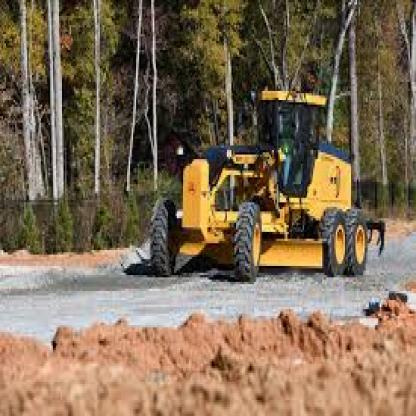bull_dozer/loader/grader: (134, 73, 394, 300)
